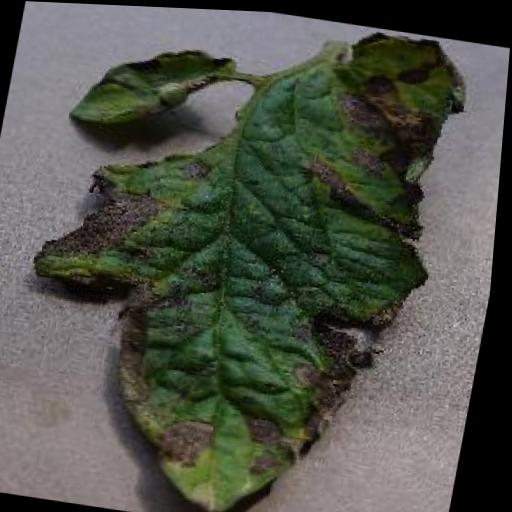Early Blight: (0, 1, 471, 512)
